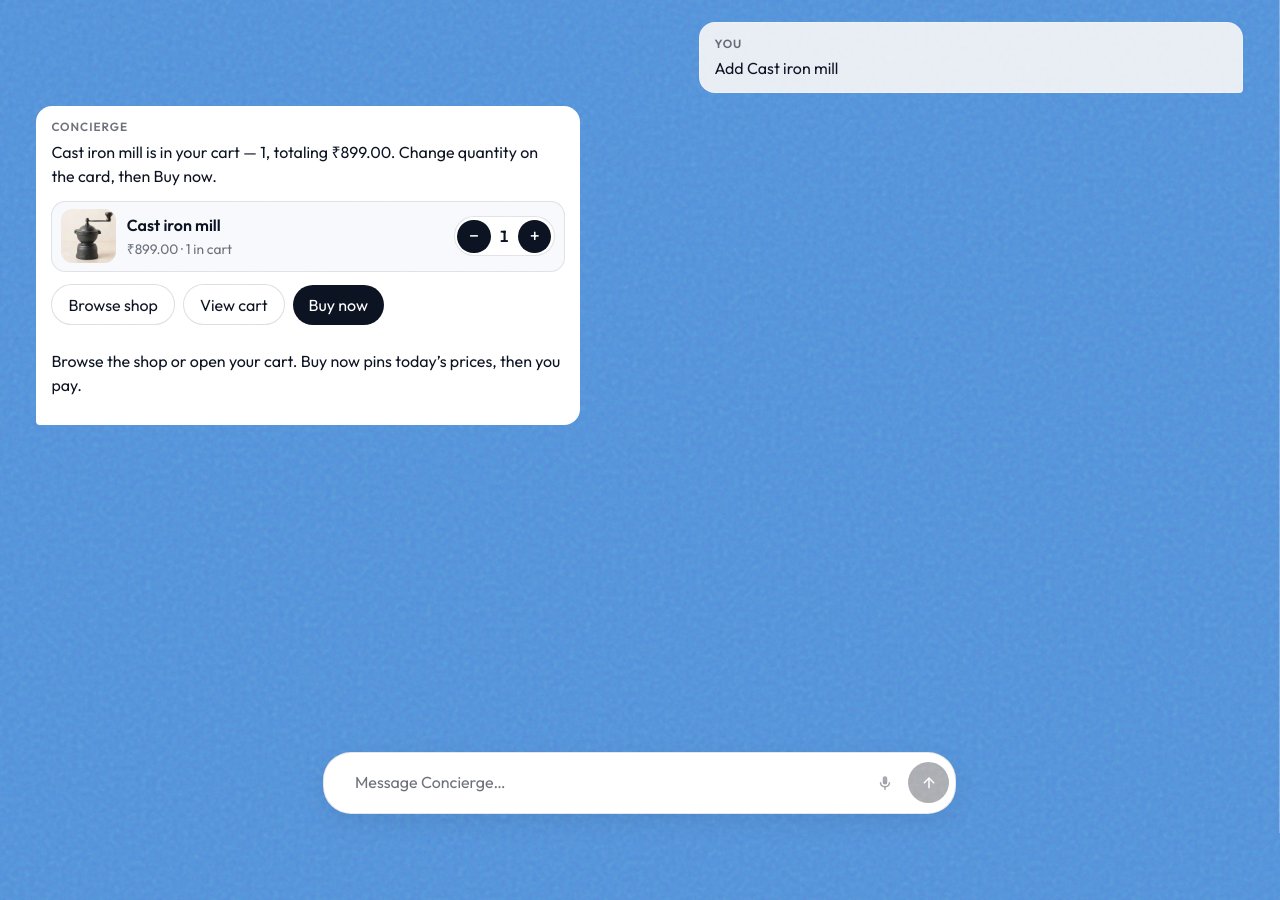
Test: payment outcome in the chat thread › puts plus and minus on an in-cart product instead of another Add
Expected: the button named "Remove Cast iron mill" is shown, [457,220,491,253]
Expected: the button "Buy now" is shown, [293,285,384,325]
Click the button named "More Cast iron mill" at x=535, y=236, box [518,220,551,253]
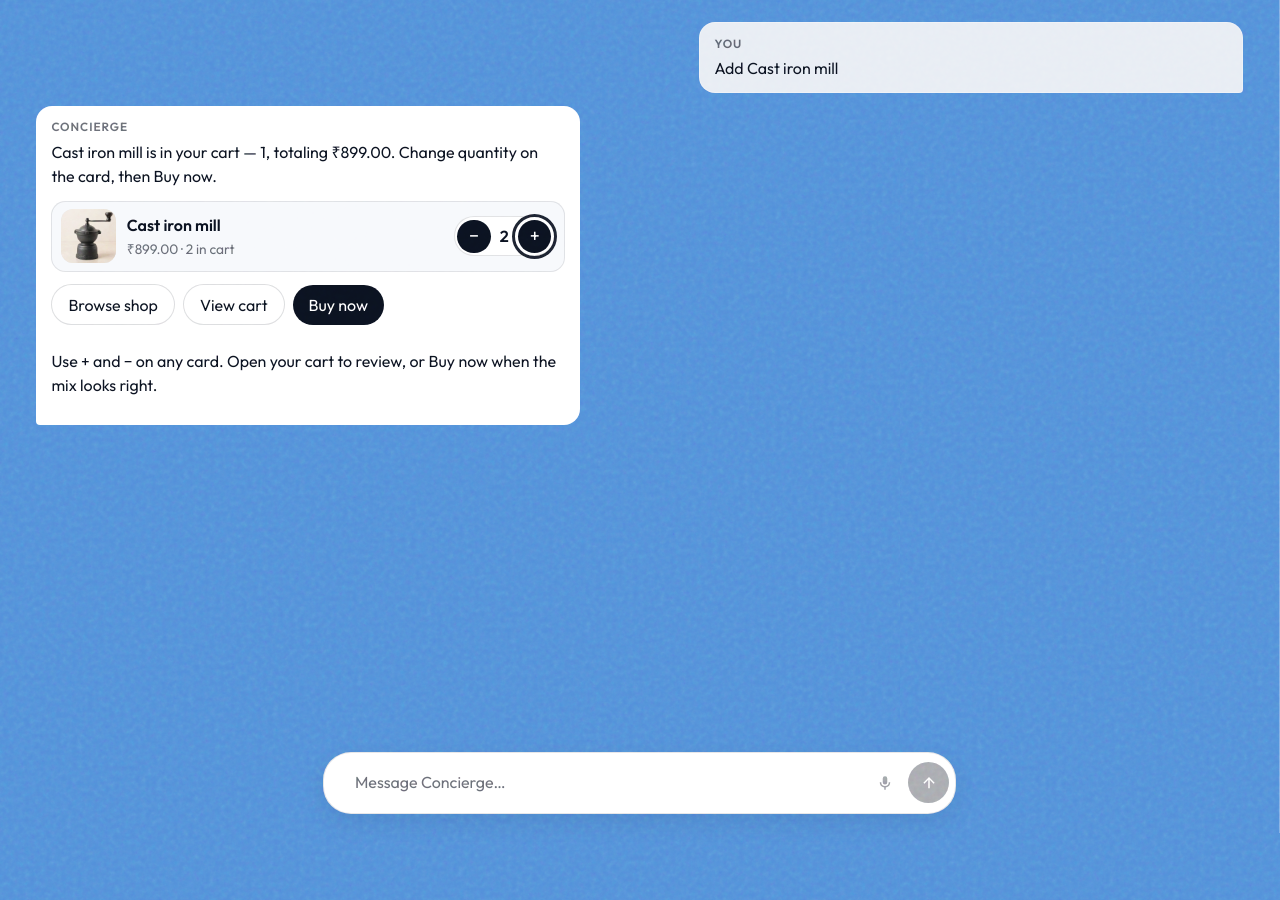
Expected: the button "View cart" is shown, [183,284,285,325]
Now the text "₹899.00 · 2 in cart" is shown, box [127,240,235,258]
Click the button "Buy now" at x=338, y=305, box [293,285,384,325]
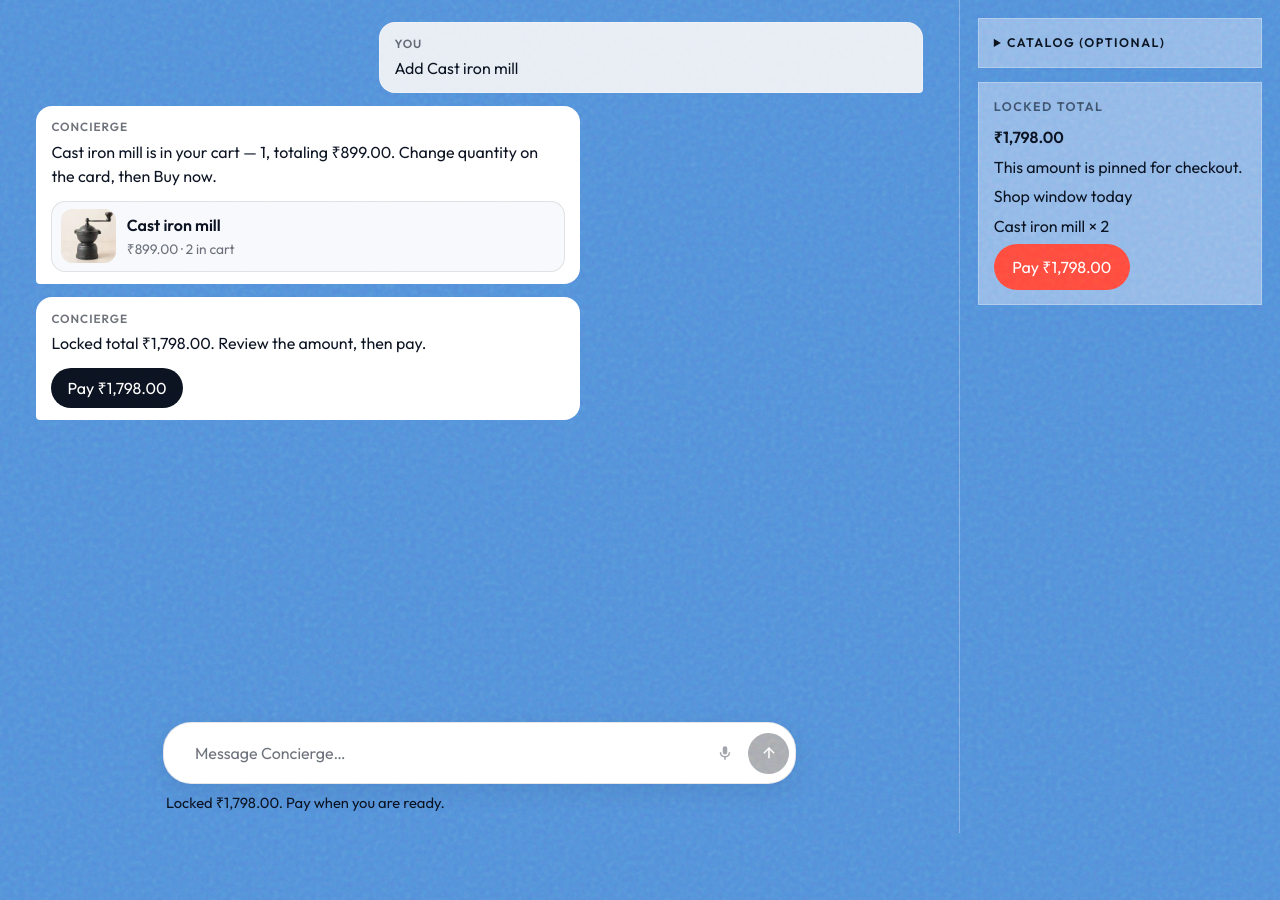
Now the text "Locked total ₹1,798.00. Review the amount, then pay." is shown, box [51,333,426,353]
Now the button "Pay ₹1,798.00" below "Add Cast iron mill" is shown, box [51,368,182,408]
